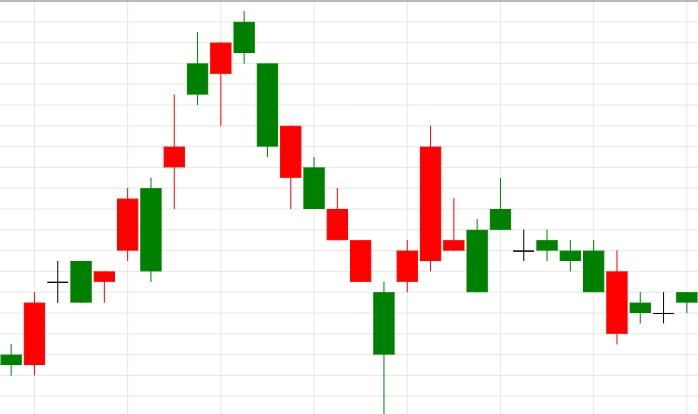bearish_engulfing_fall: (0, 178, 163, 376)
